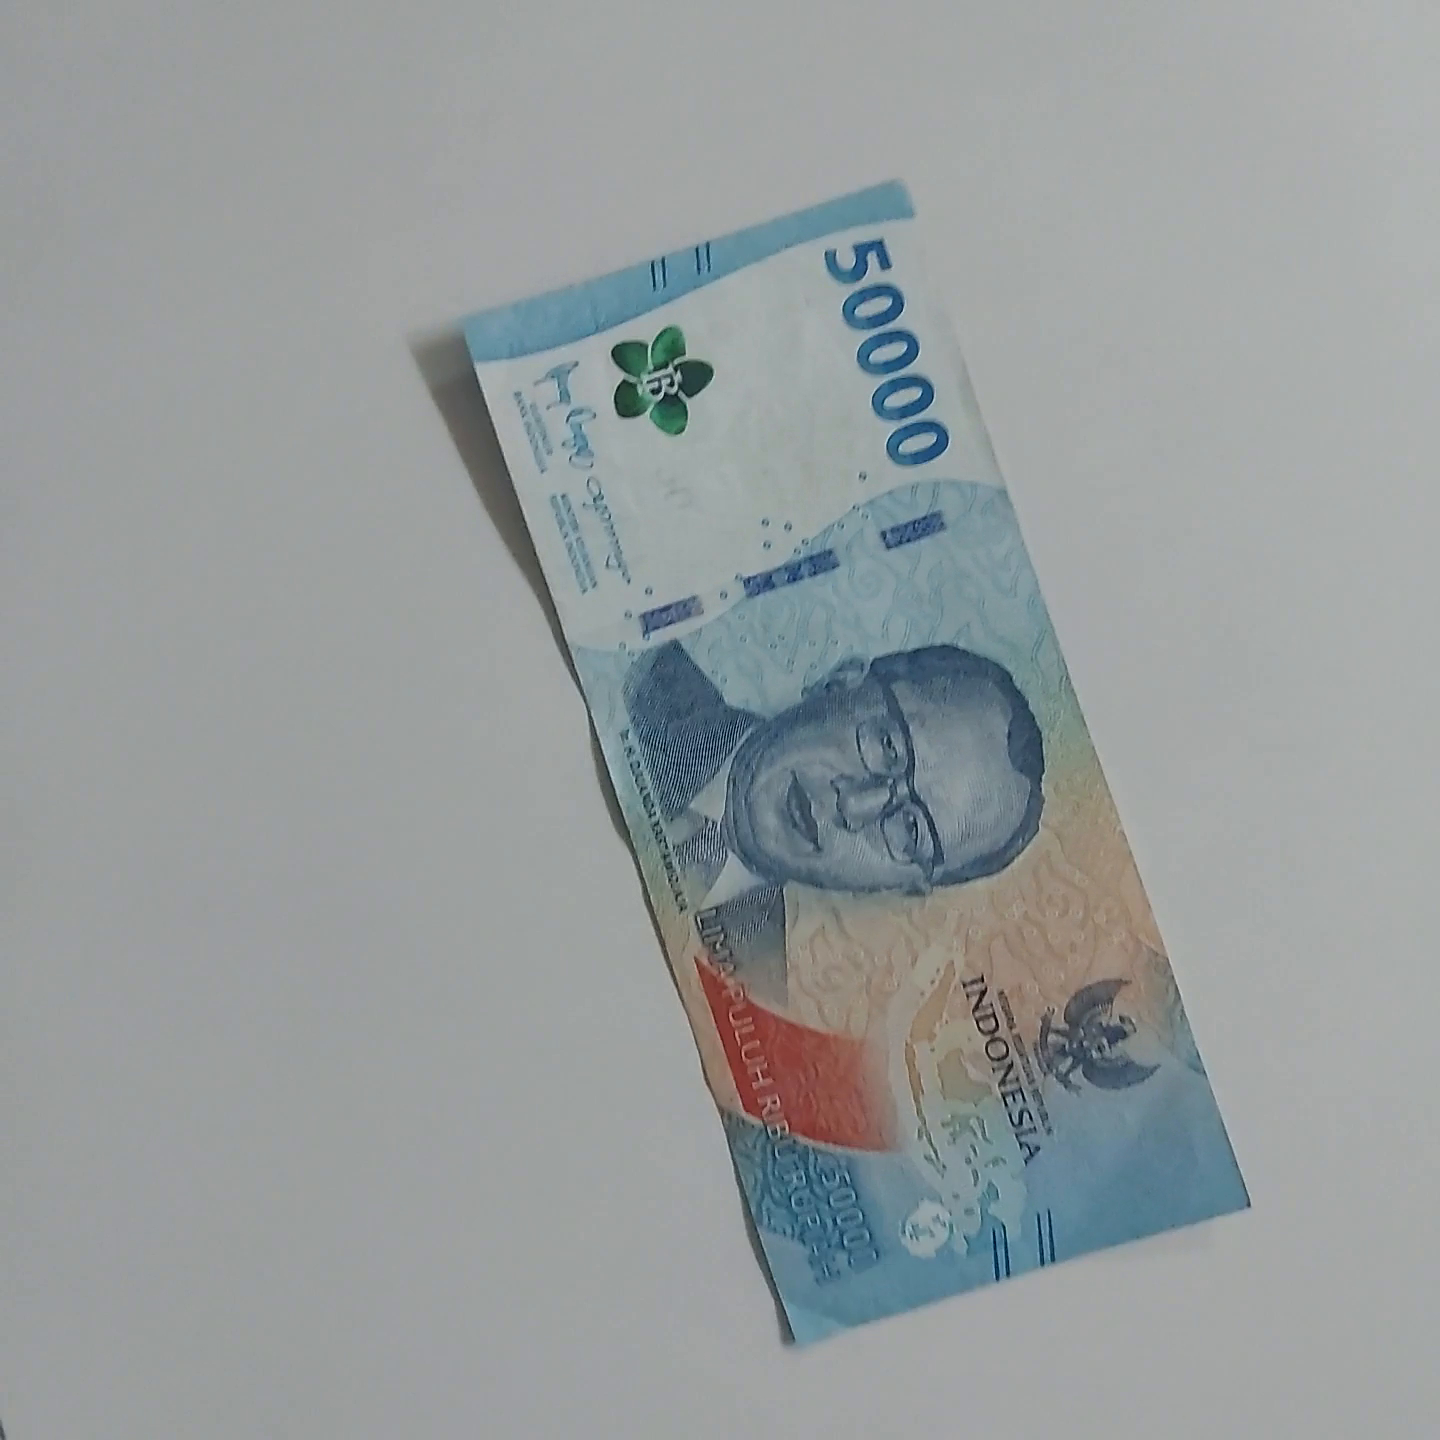50k: (405, 360, 938, 1431)
